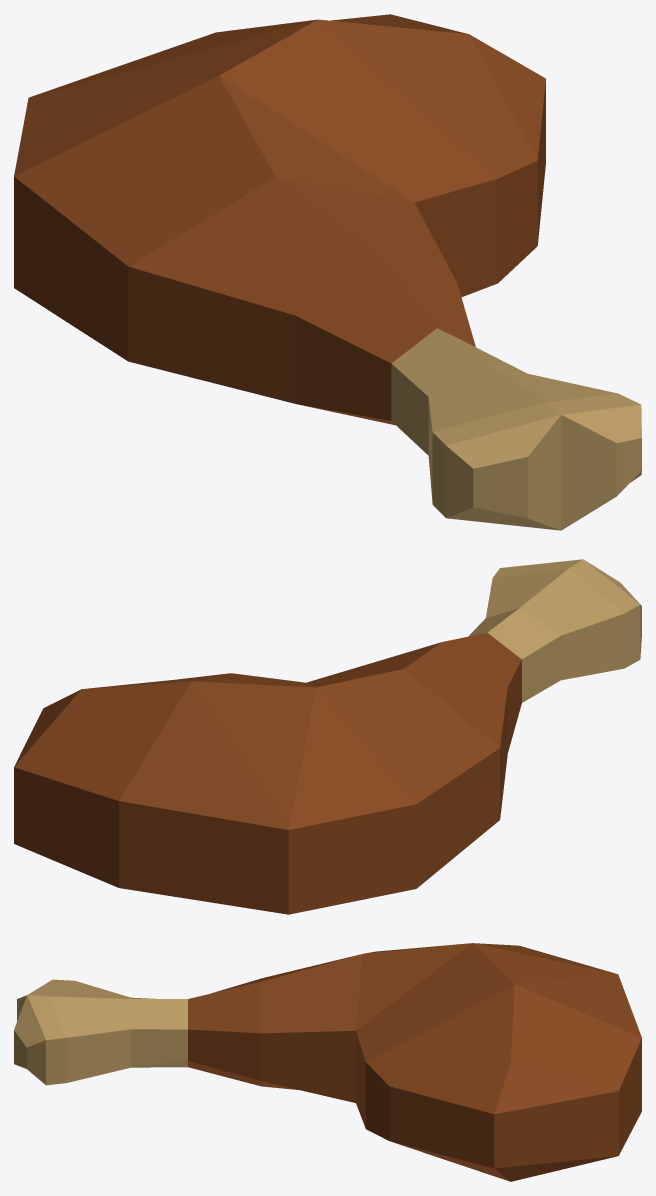
The model's file is Meat.glb.
3 renders of one model, top to bottom at view 1: azimuth 30°, elevation 25°; view 2: azimuth 150°, elevation 25°; view 3: azimuth 270°, elevation 25°, orthographic. The views are drawn at different scales.
Parts seen in each view (by area): view 1: Meat.001; view 2: Meat.001; view 3: Meat.001.
Part boxes in pixels (x1,y1,x2,y2): Meat.001: [14, 14, 641, 530]; Meat.001: [14, 559, 641, 914]; Meat.001: [14, 943, 641, 1181].
Bounding box in the file's own units: 0.1688 × 0.0895 × 0.2793.
1 material, 1 textured.
